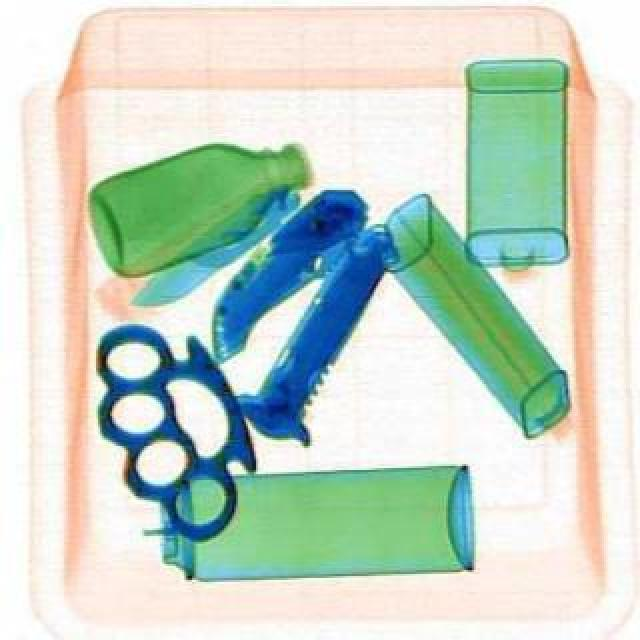knife: (50, 294, 292, 558), (178, 172, 380, 364), (234, 214, 402, 442), (118, 172, 306, 320)
